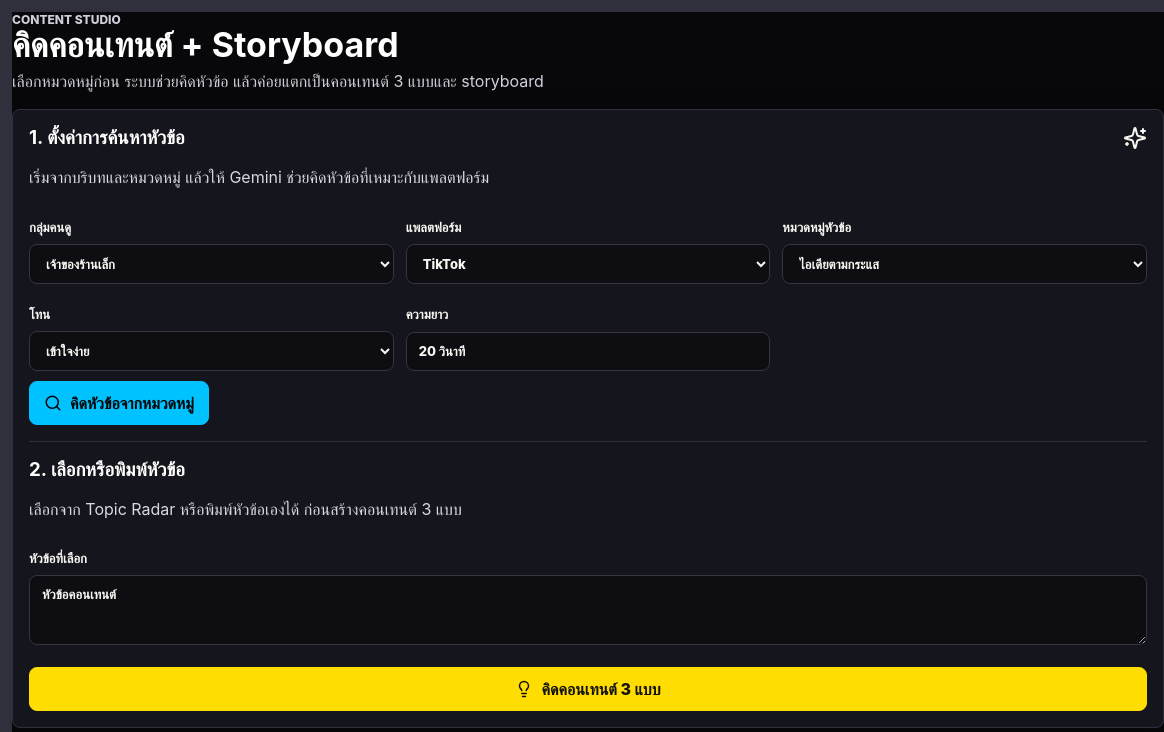
Test: ContentStudio › lets the user choose a topic category or type a custom category for topic search
Select "กำหนดเอง" in the dropdown labelled "หมวดหมู่หัวข้อ" at coordinates (965, 264), box x1=782 y1=244 x2=1147 y2=284
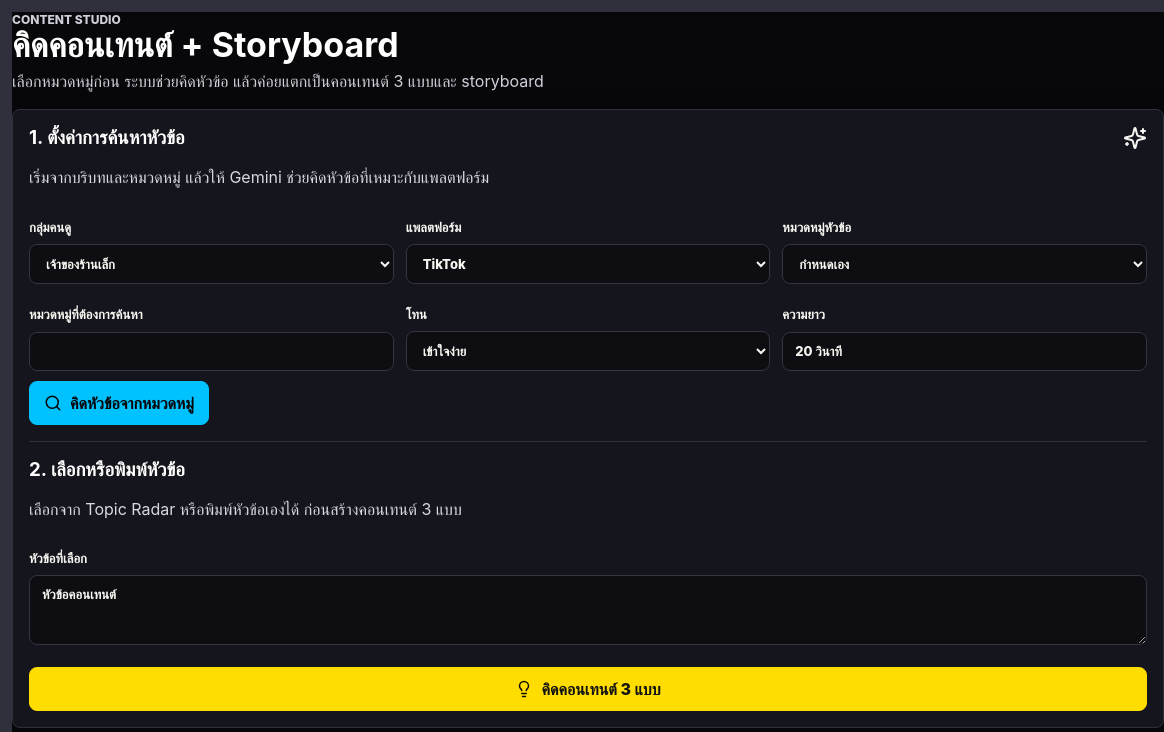
Type "ภาษีร้านเล็ก" into the field labelled "หมวดหมู่ที่ต้องการค้นหา" at coordinates (211, 352), box x1=29 y1=332 x2=394 y2=372
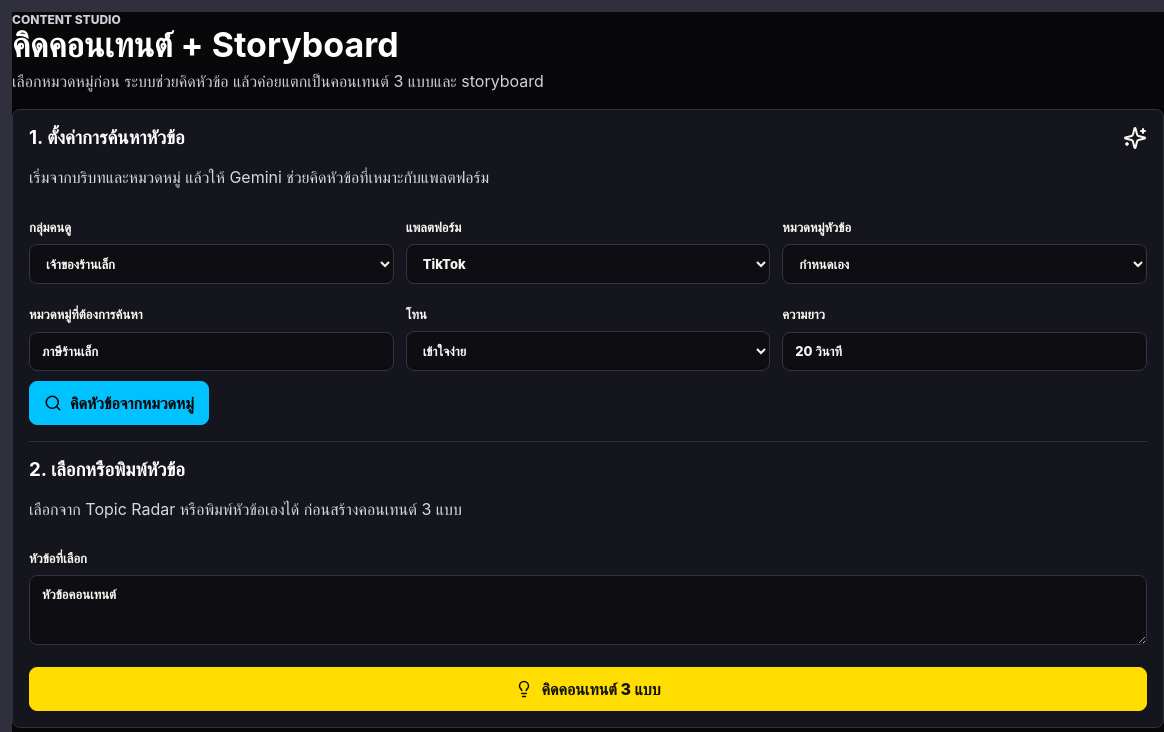
Click the button "คิดหัวข้อจากหมวดหมู่" at coordinates (119, 404), box x1=29 y1=382 x2=209 y2=426
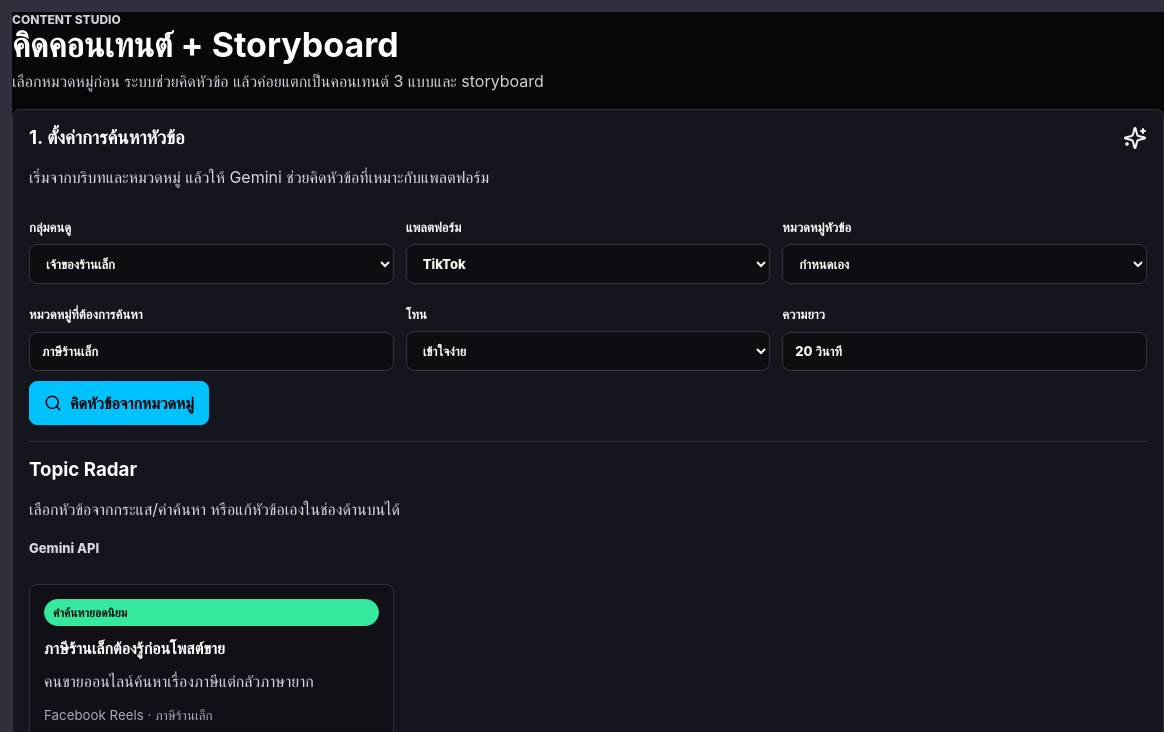
Expected: the heading "ภาษีร้านเล็กต้องรู้ก่อนโพสต์ขาย" is shown, x1=44 y1=638 x2=225 y2=658
